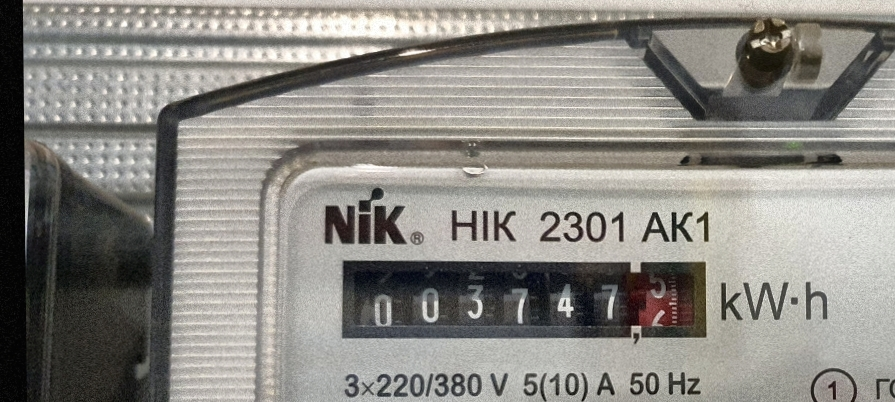0: (418, 285, 439, 323), (371, 292, 393, 327)
3: (465, 283, 484, 320)
4: (554, 280, 574, 320)
5: (647, 271, 667, 299)
6: (648, 306, 666, 327)
7: (597, 280, 620, 321), (509, 285, 528, 325)
screen: (331, 246, 721, 356)
